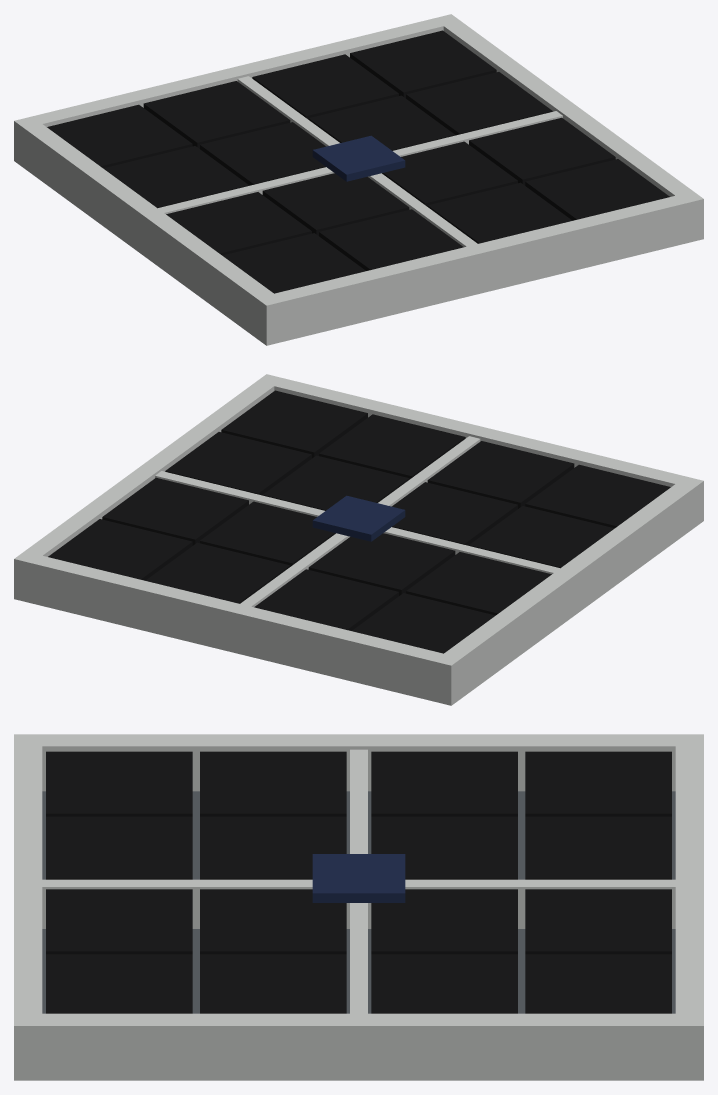
The model's file is reactor_cooling_pad.obj.
The picture shows the model from 3 angles, top to bottom: view 1: azimuth 30°, elevation 25°; view 2: azimuth 150°, elevation 25°; view 3: azimuth 270°, elevation 25°; orthographic projection. The views are drawn at different scales.
Visible parts, largest first — view 1: reactor_cooling_pad; view 2: reactor_cooling_pad; view 3: reactor_cooling_pad.
Boxes of the visible parts, x1,y1,x2,y2 form: reactor_cooling_pad: (14, 14, 703, 345); reactor_cooling_pad: (14, 374, 703, 705); reactor_cooling_pad: (14, 734, 703, 1080).
Bounding box in the file's own units: 1.4 × 0.137 × 1.4.
